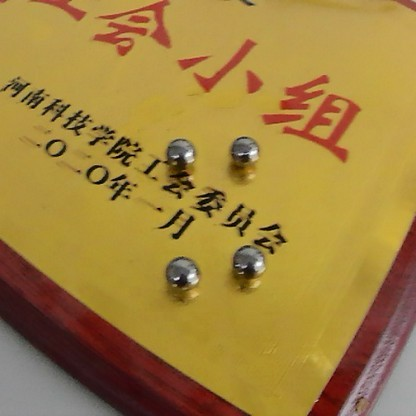ironball: (152, 248, 205, 304), (221, 126, 266, 170), (161, 131, 196, 170), (229, 242, 261, 274)
